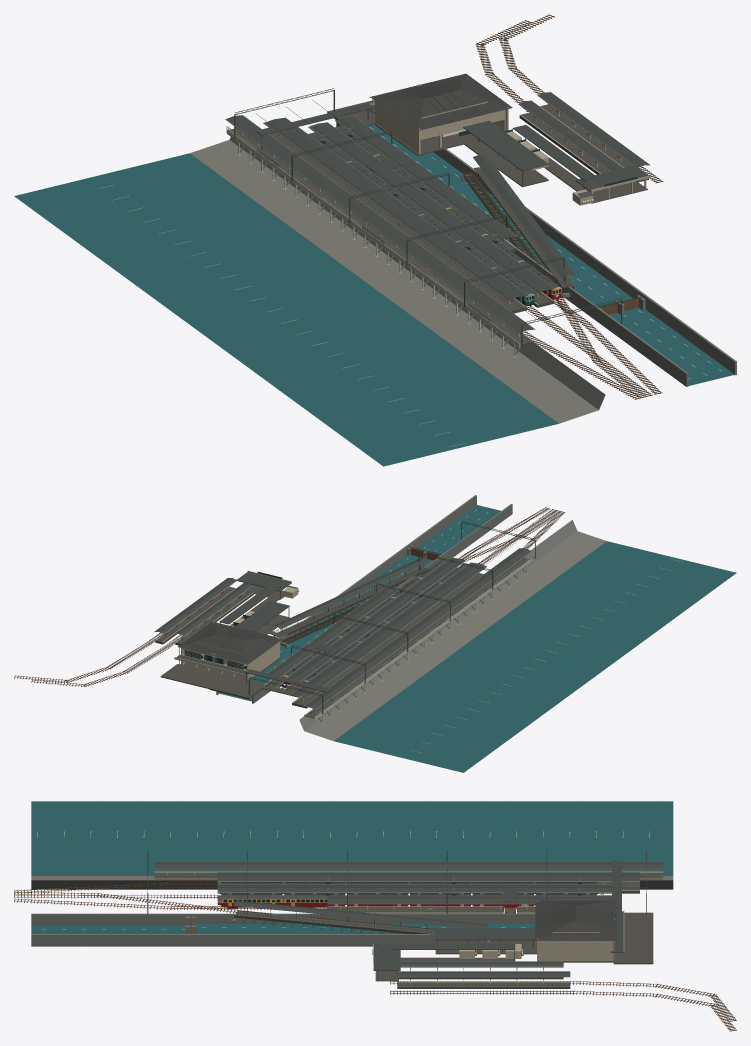
Rendered from sanjo1967.glb.
3 renders of one model, top to bottom at view 1: azimuth 30°, elevation 25°; view 2: azimuth 150°, elevation 25°; view 3: azimuth 270°, elevation 25°, orthographic. The views are drawn at different scales.
Visible parts, largest first — view 1: river__water, roof, river__gravel, platform, canal__water, canal__stone, riverdeck__roof, roof_tile, steel, sleeper, plaster, river__stone (+10 smaller); view 2: river__water, roof, river__gravel, platform, canal__water, canal__stone, riverdeck__roof, roof_tile, steel, sleeper, frame, train_roof (+10 smaller); view 3: river__water, roof, canal__stone, platform, frame, riverdeck__roof, canal__water, roof_tile, river__stone, rail, plaster, steel (+15 smaller).
Part boxes in pixels (x1,y1,x2,y2): river__water: (14,153,558,466); roof: (256,92,649,300); river__gravel: (190,140,598,423); platform: (257,100,648,313); canal__water: (368,124,734,385); canal__stone: (336,122,736,386); riverdeck__roof: (226,115,534,333); roof_tile: (370,73,512,131); steel: (234,81,644,347); sleeper: (475,14,663,399); plaster: (369,101,650,205); river__stone: (229,127,605,409); river__water: (334,541,736,772); roof: (155,557,486,697); river__gravel: (304,531,606,740); platform: (155,567,483,708); canal__water: (218,505,500,701); canal__stone: (216,495,512,703); riverdeck__roof: (303,548,531,709); roof_tile: (178,621,282,664); steel: (164,521,535,713); sleeper: (14,507,565,688); frame: (154,558,487,698); train_roof: (284,558,467,680); river__water: (31,801,673,875); roof: (217,860,639,976); canal__stone: (31,913,536,946); platform: (217,883,653,988); frame: (217,872,639,977); riverdeck__roof: (154,862,663,868); canal__water: (31,924,535,933); roof_tile: (535,900,616,940); river__stone: (31,880,673,889); rail: (14,882,735,1030); plaster: (373,901,624,979); steel: (147,850,646,985).
Size of the model in its own units: 173 by 15.04 by 217.
60 materials, 60 textured.
